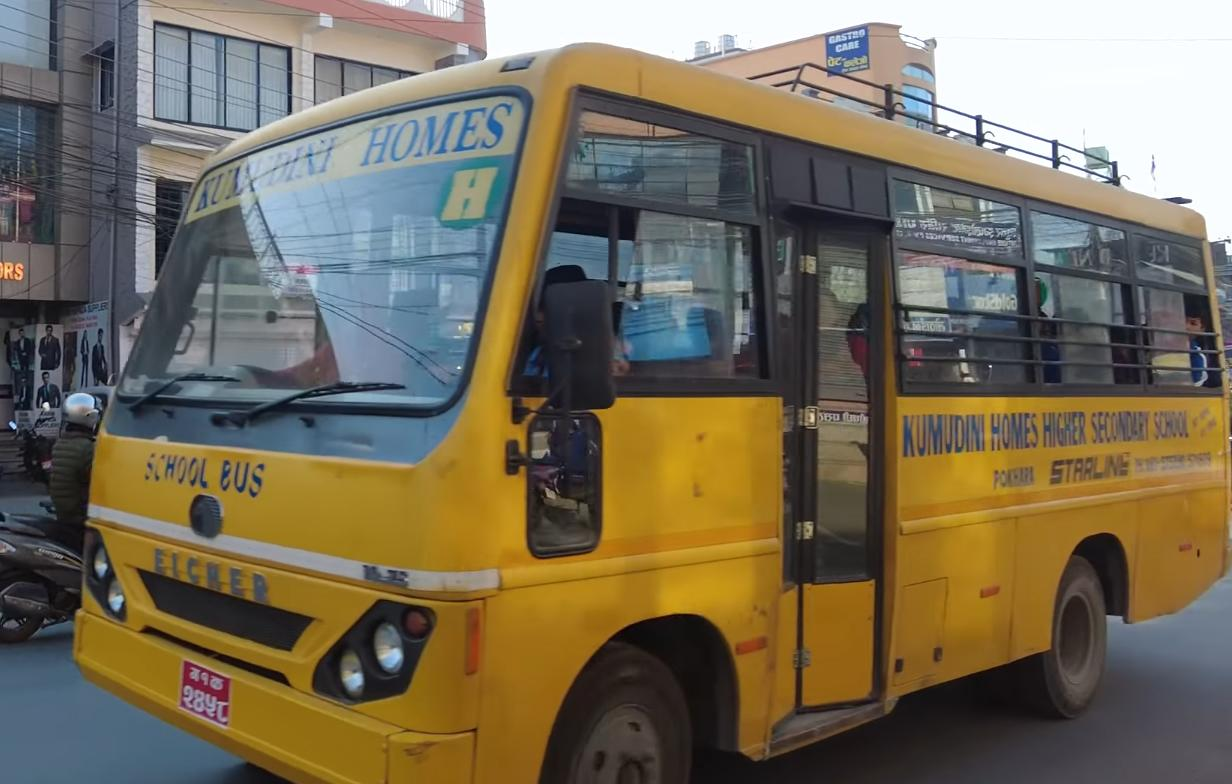school_bus: (66, 37, 1232, 784)
